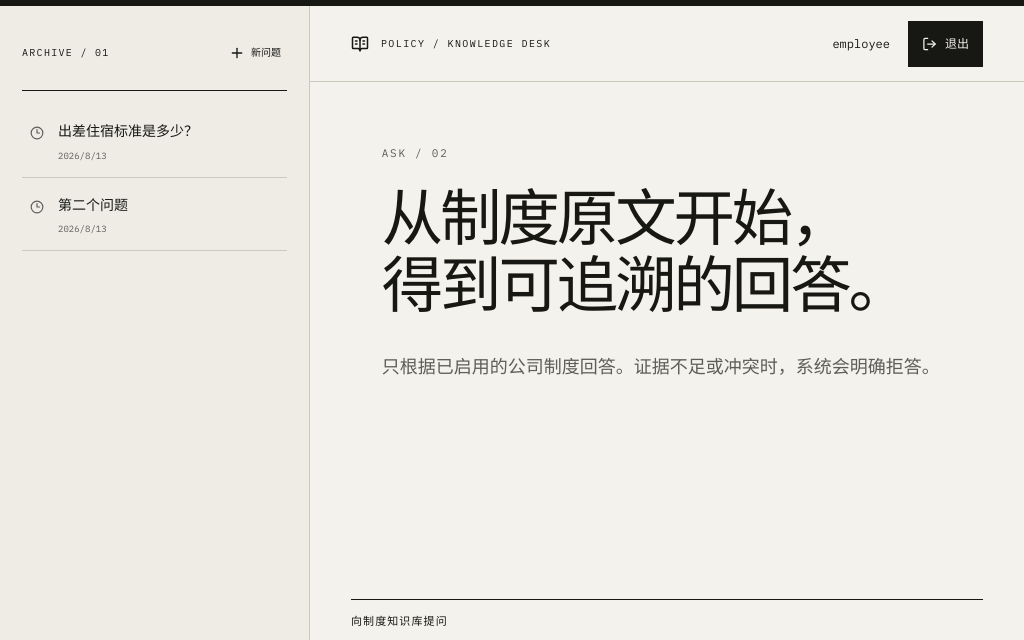
question workspace › shows delete only for the selected row and deletes without confirmation
This screenshot has width=1024, height=640.
Check: the button "删除" is not shown
Click the button "出差住宿标准是多少？ 2026/8/13": (154,140) [22,104,287,177]
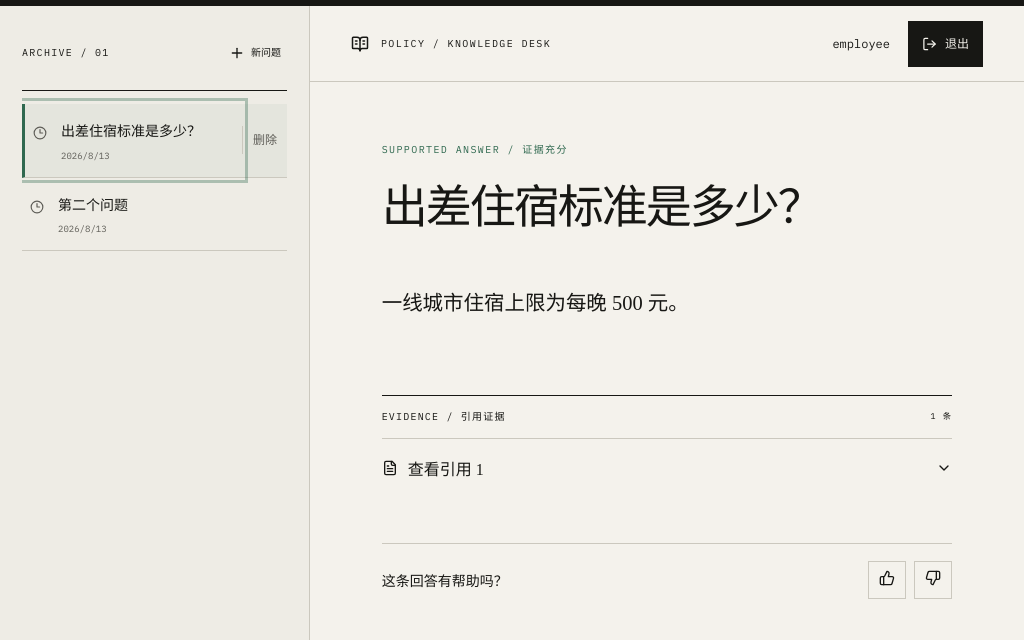
Check: the number of buttons "删除" is 1
Click the button "删除": (264,140) [242,126,287,154]
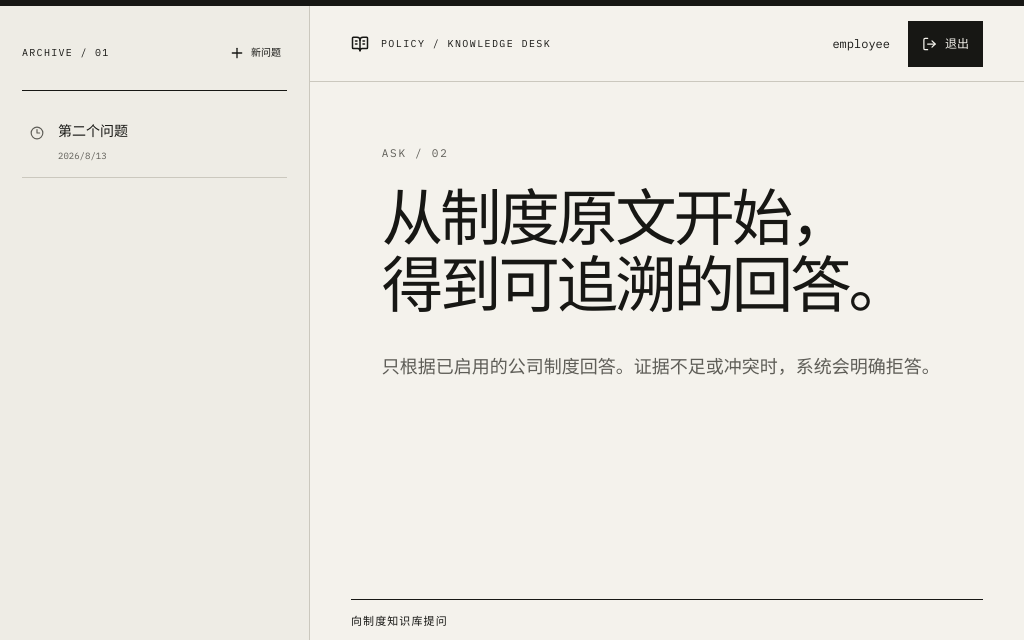
Check: the button "第二个问题 2026/8/13" is shown, box [22,104,287,177]
Check: the text "一线城市住宿上限为每晚 500 元。" is gone
